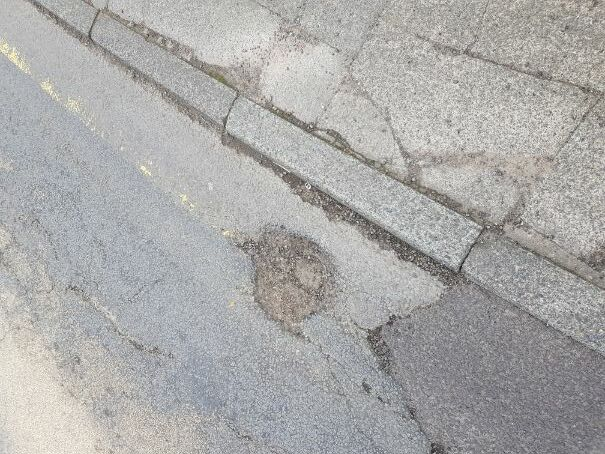pothole: (228, 222, 345, 343)
